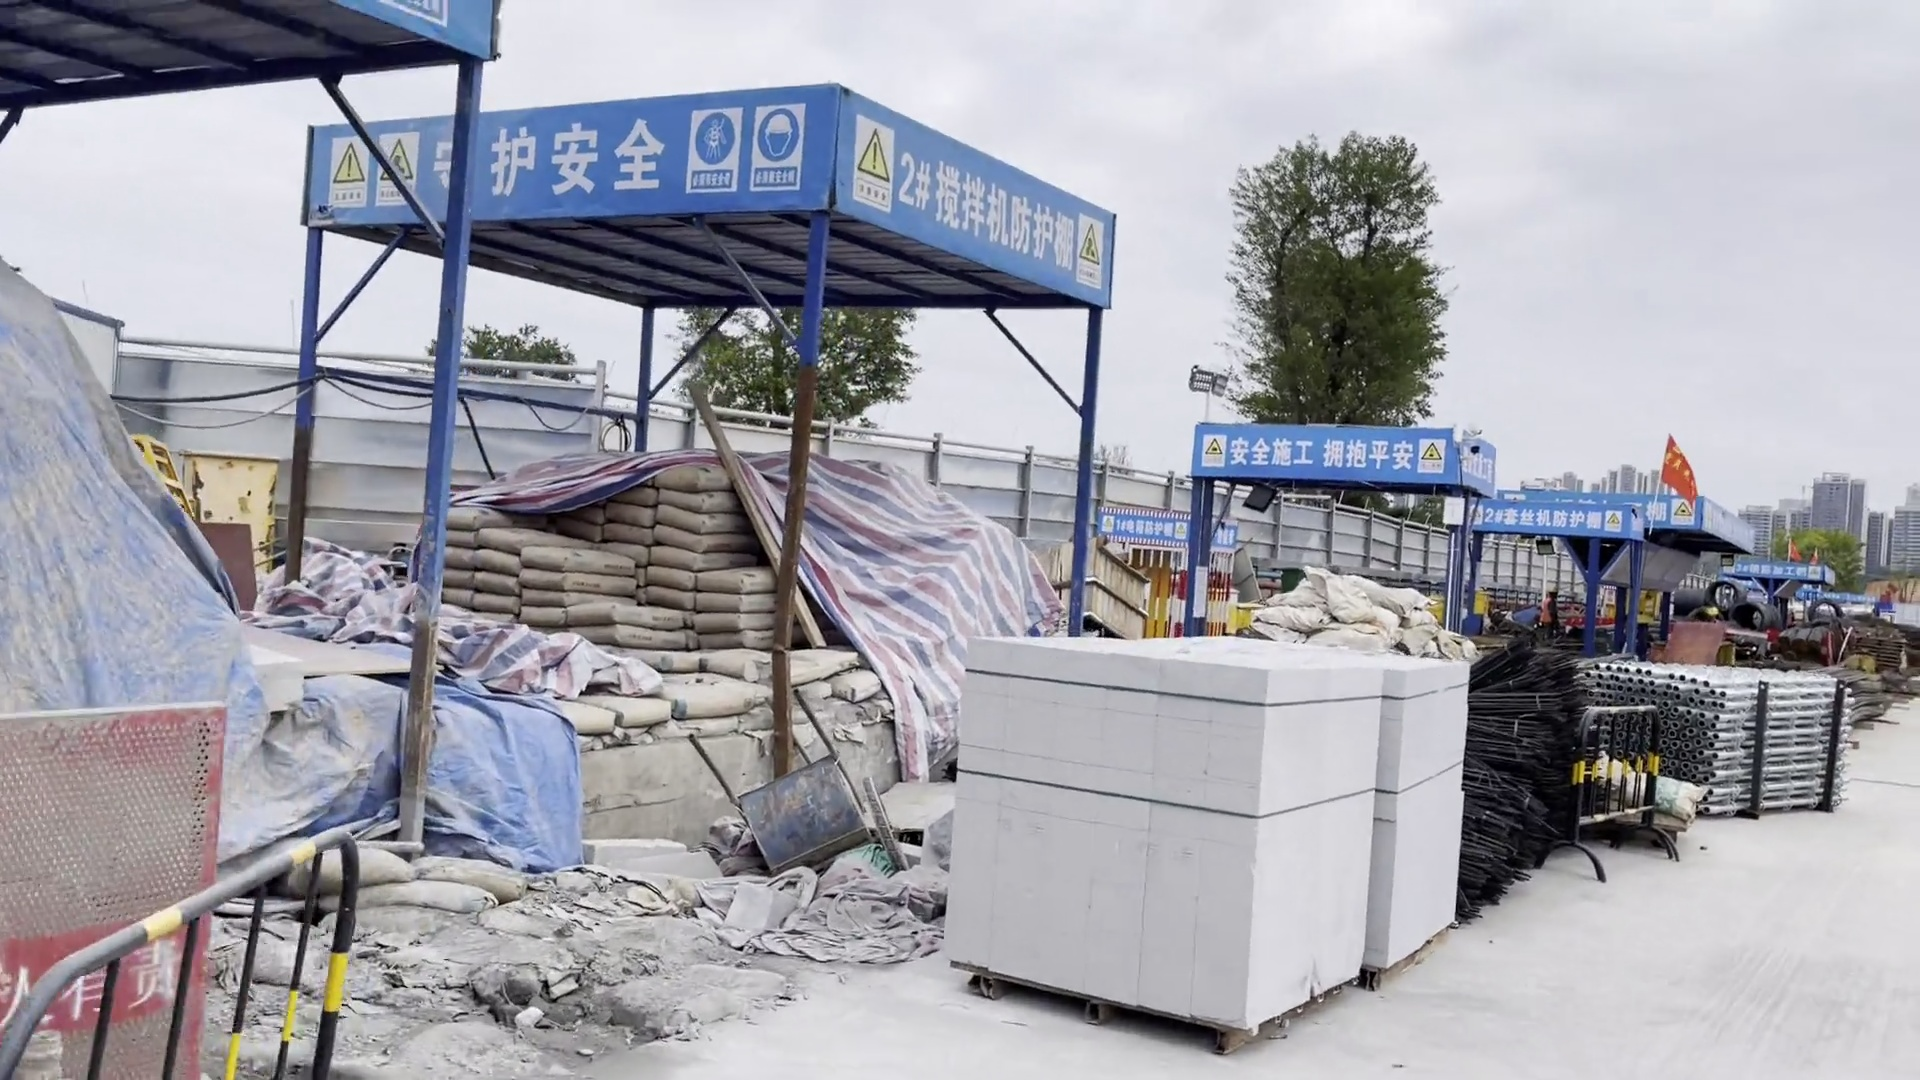brick: (947, 632, 1473, 1036)
scaffold: (1559, 655, 1880, 831)
slogan: (417, 111, 680, 208), (1229, 433, 1422, 475)
